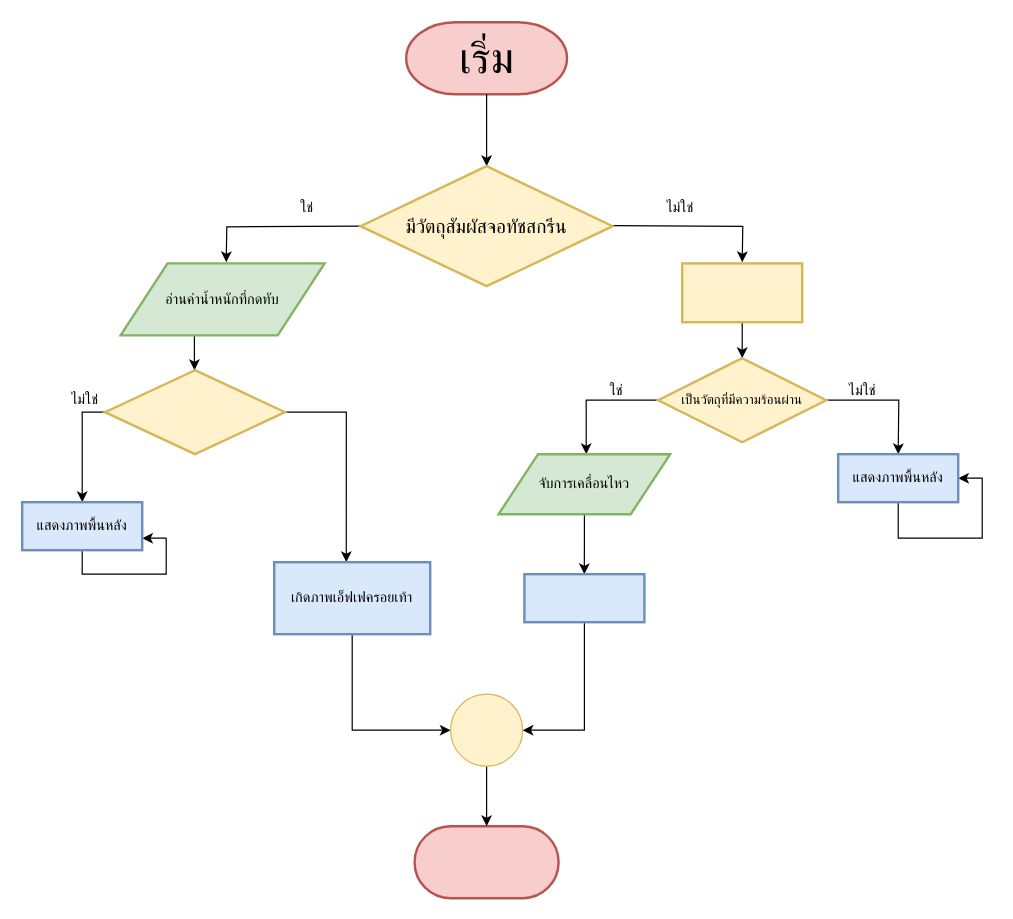
Some shapes in this 1013 by 919 pixel diagram are drawn without their labels. Here are the shapes that lost their labels. From the top down, the centre of each, then its label:
At (x=741, y=292): "ถ้าไม่ใช่".
At (x=194, y=411): "น้ำหนักมากกว่า 20กก.".
At (x=584, y=597): "เกิดภาพเอฟเฟ็ค".
At (x=486, y=861): "จบ".
